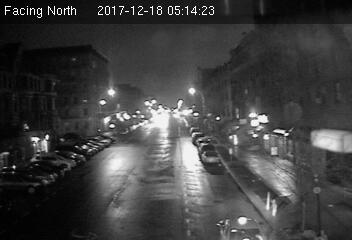car: (217, 210, 266, 240), (201, 151, 220, 164)
